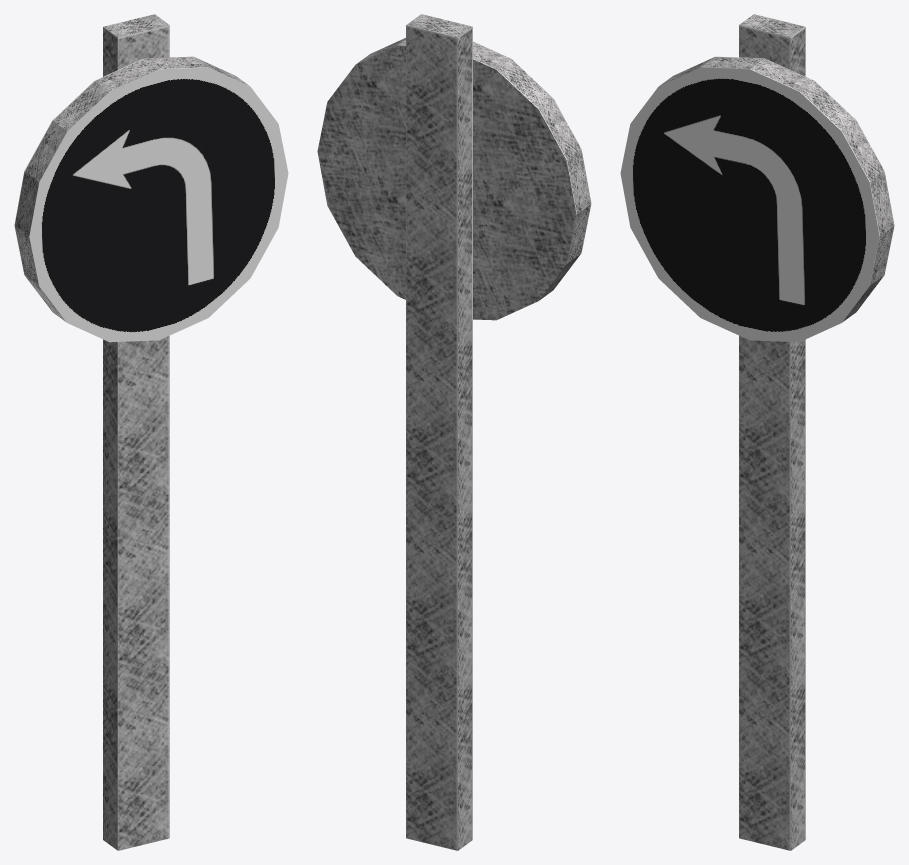
The model's file is LeftTurnBlackRound.fbx.
The picture shows the model from 3 angles, left to right: view 1: azimuth 30°, elevation 25°; view 2: azimuth 150°, elevation 25°; view 3: azimuth 330°, elevation 25°; orthographic projection.
Visible parts, largest first — view 1: Senyal Obligatori gir R; view 2: Senyal Obligatori gir R; view 3: Senyal Obligatori gir R.
Part boxes in pixels (left/top/right/bottom): Senyal Obligatori gir R: left=14, top=14, right=288, bottom=850; Senyal Obligatori gir R: left=317, top=14, right=591, bottom=850; Senyal Obligatori gir R: left=620, top=14, right=894, bottom=850.
Bounding box in the file's own units: 100 × 300 × 20.
1 material, 1 textured.
